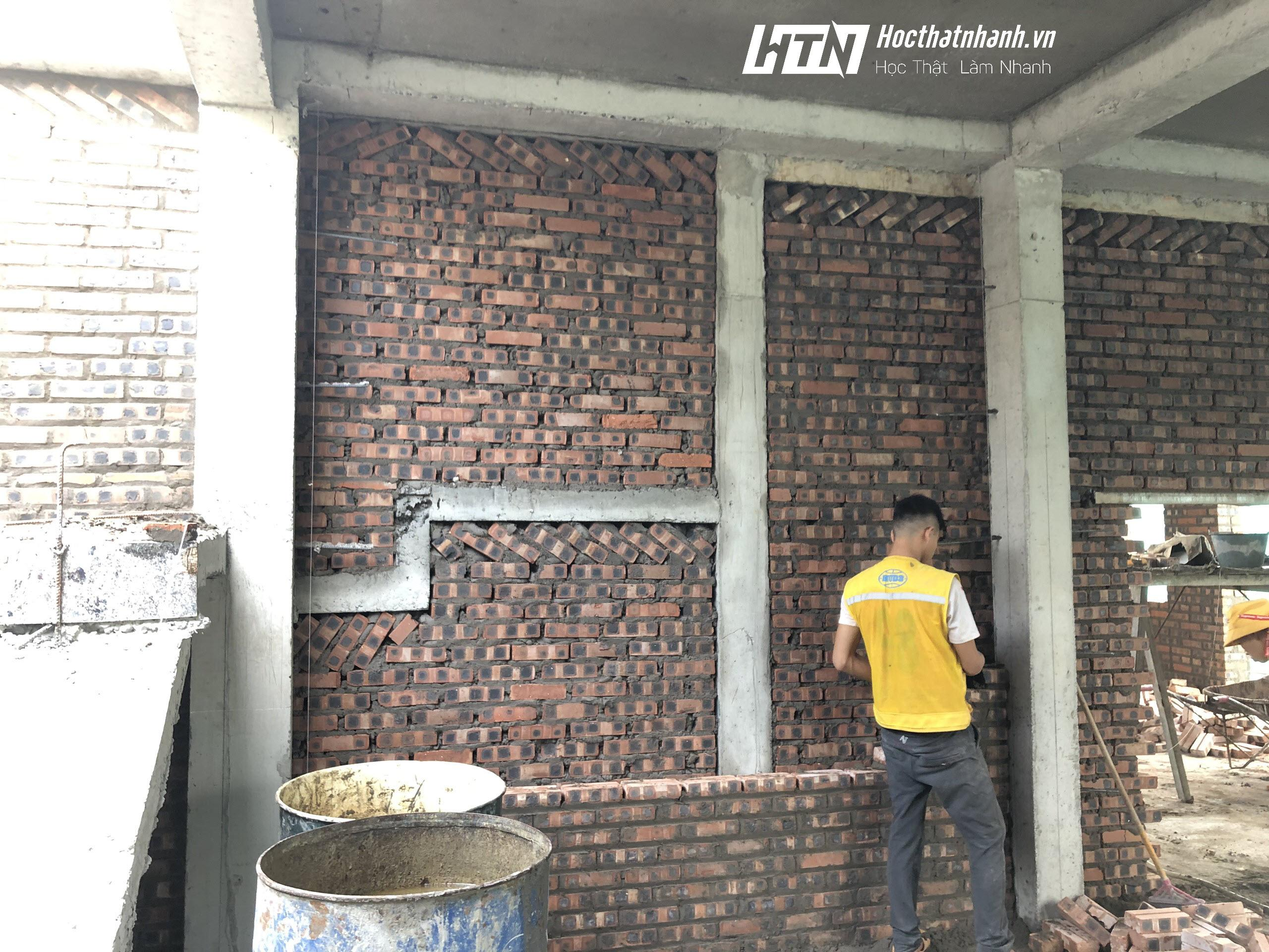Person: (831, 493, 1016, 951)
Safety Vest: (840, 554, 973, 734)
no-helmet: (887, 492, 940, 527)
